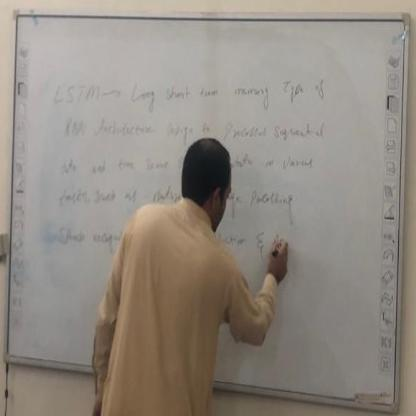Handwritten text: (44, 67, 331, 114), (50, 115, 332, 145), (48, 180, 183, 212), (52, 150, 182, 179), (45, 219, 121, 254), (248, 186, 301, 223)
Lecturer: (96, 129, 301, 416)
Whiteboard: (4, 9, 407, 409)
